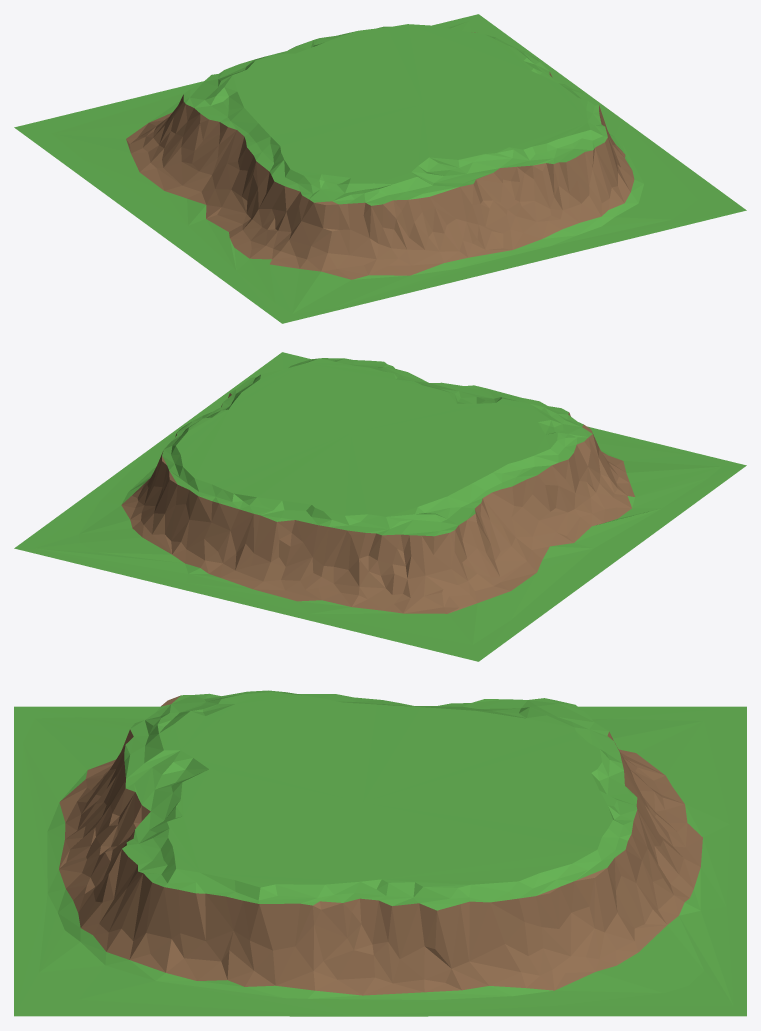
Rendered from hills03_dirt.fbx.
The picture shows the model from 3 angles, top to bottom: view 1: azimuth 30°, elevation 25°; view 2: azimuth 150°, elevation 25°; view 3: azimuth 270°, elevation 25°; orthographic projection. The views are drawn at different scales.
Visible parts, largest first — view 1: hills03_dirt; view 2: hills03_dirt; view 3: hills03_dirt.
Part boxes in pixels (box(x1,y1,x2,y2)): hills03_dirt: box(14, 14, 746, 323); hills03_dirt: box(14, 352, 746, 661); hills03_dirt: box(14, 690, 746, 1016).
Bounding box in the file's own units: 1000 × 125 × 1000.
